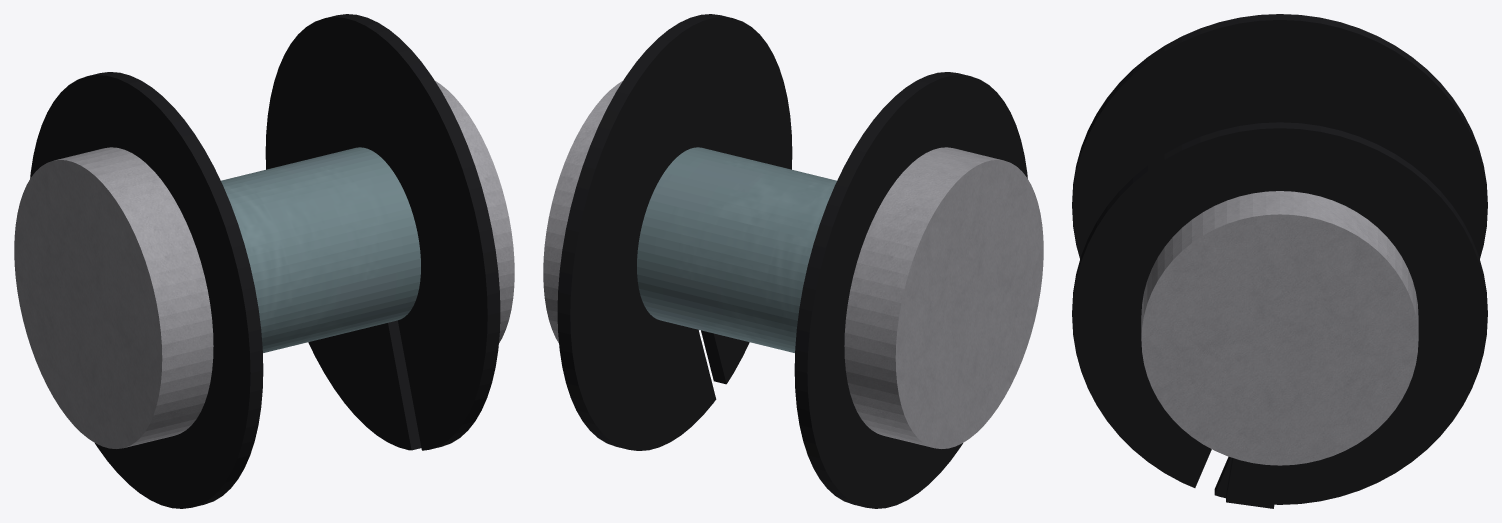
Rendered from coupling_cracked.glb.
3 views of the same model, side by side, from view 1: azimuth 30°, elevation 25°; view 2: azimuth 150°, elevation 25°; view 3: azimuth 270°, elevation 25° (orthographic). The views are drawn at different scales.
Parts seen in each view (by area): view 1: coupling_cracked; view 2: coupling_cracked; view 3: coupling_cracked.
Part boxes in pixels (left/top/right/bottom): coupling_cracked: left=14, top=14, right=514, bottom=508; coupling_cracked: left=543, top=14, right=1043, bottom=508; coupling_cracked: left=1072, top=14, right=1487, bottom=508.
Bounding box in the file's own units: 0.55 × 0.6 × 0.6.
3 materials, 2 textured.
